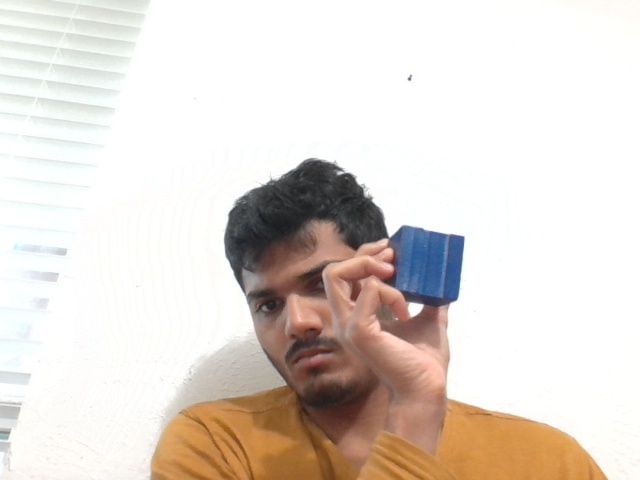BlueBlock: (387, 224, 465, 304)
